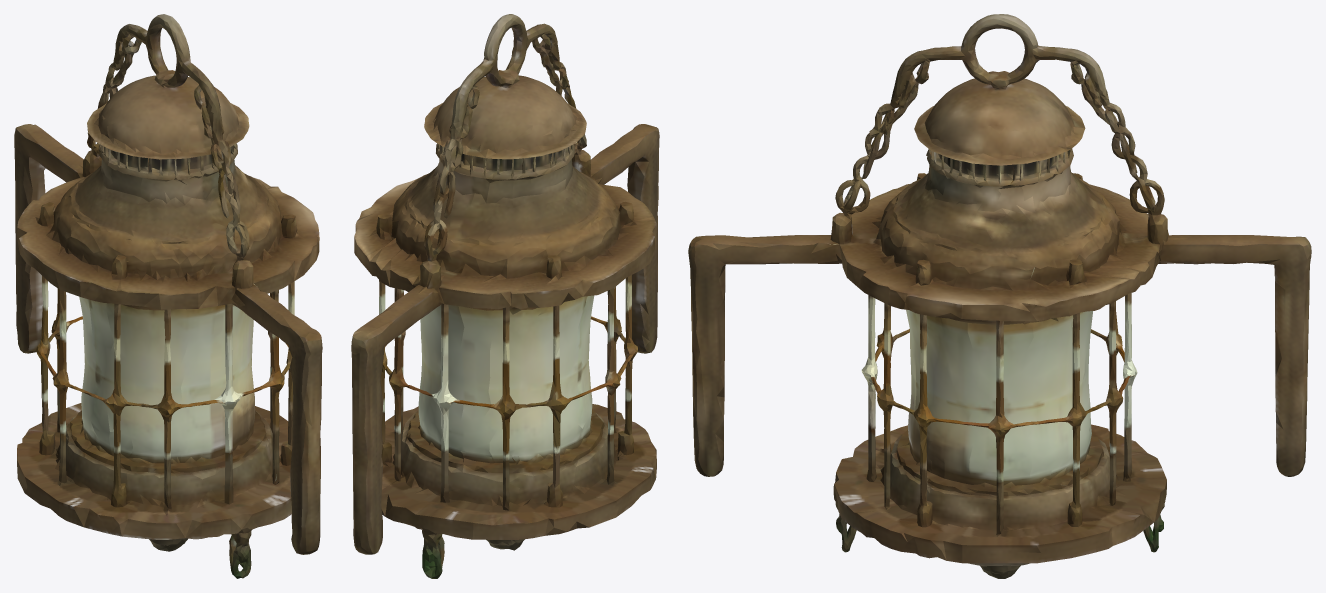
Rendered from lantern.glb.
3 views of the same model, side by side, from view 1: azimuth 30°, elevation 25°; view 2: azimuth 150°, elevation 25°; view 3: azimuth 270°, elevation 25° (orthographic). The views are drawn at different scales.
Visible parts, largest first — view 1: ShipLantern; view 2: ShipLantern; view 3: ShipLantern.
Part boxes in pixels (left/top/right/bottom): ShipLantern: left=14, top=14, right=322, bottom=578; ShipLantern: left=351, top=14, right=659, bottom=578; ShipLantern: left=688, top=14, right=1311, bottom=578.
Bounding box in the file's own units: 0.942 × 1.87 × 1.89.
1 material, 1 textured.
